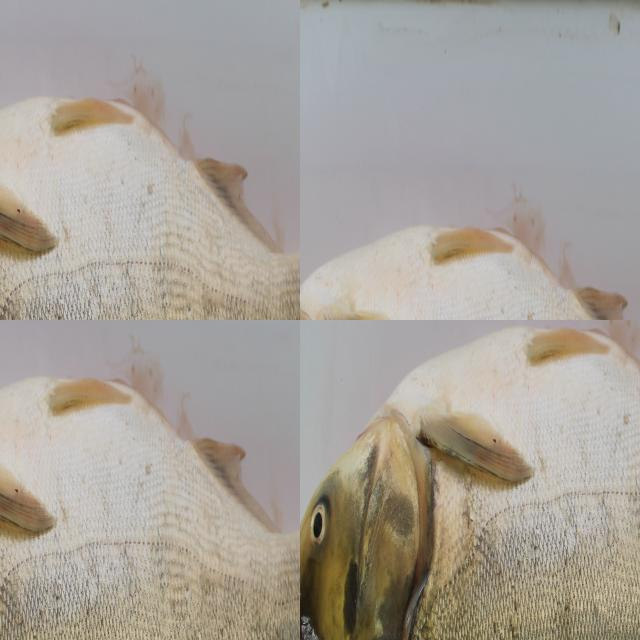fish: (300, 320, 640, 640), (0, 0, 300, 320), (0, 320, 300, 640)
